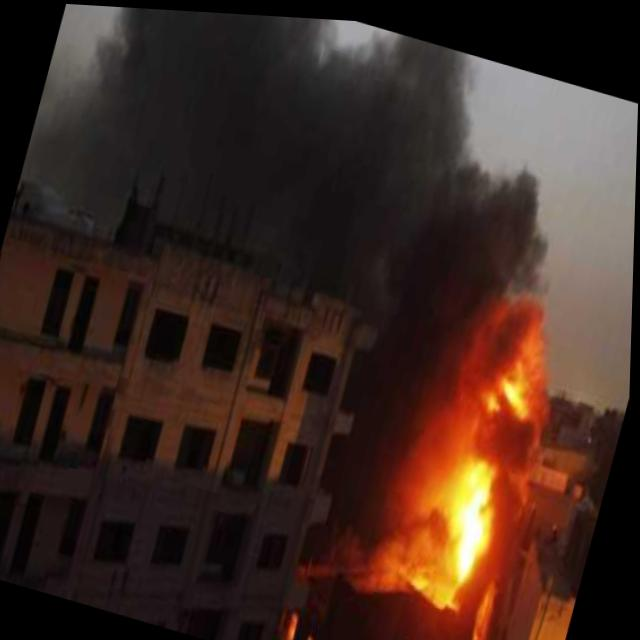fire: (360, 254, 590, 634)
